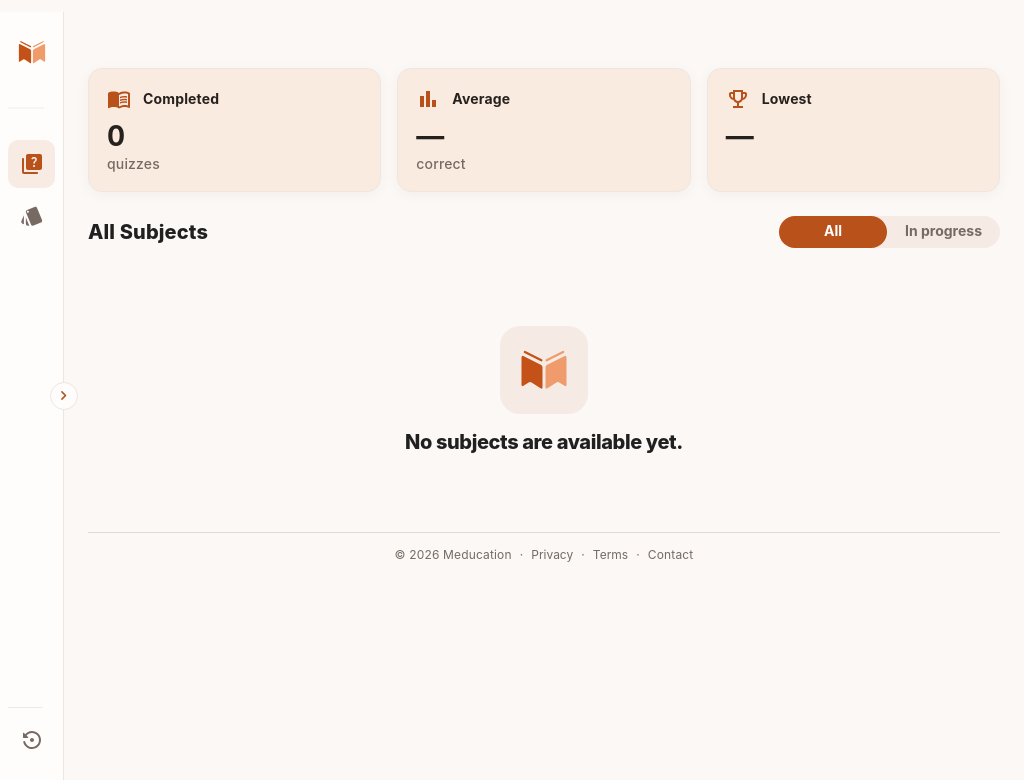
Test case: shows unreadable saved progress on the dashboard before a deck is opened
This screenshot has width=1024, height=780.
Click the button named "Flashcards" at (32, 216), box top-left (8, 192), bottom-right (55, 240)
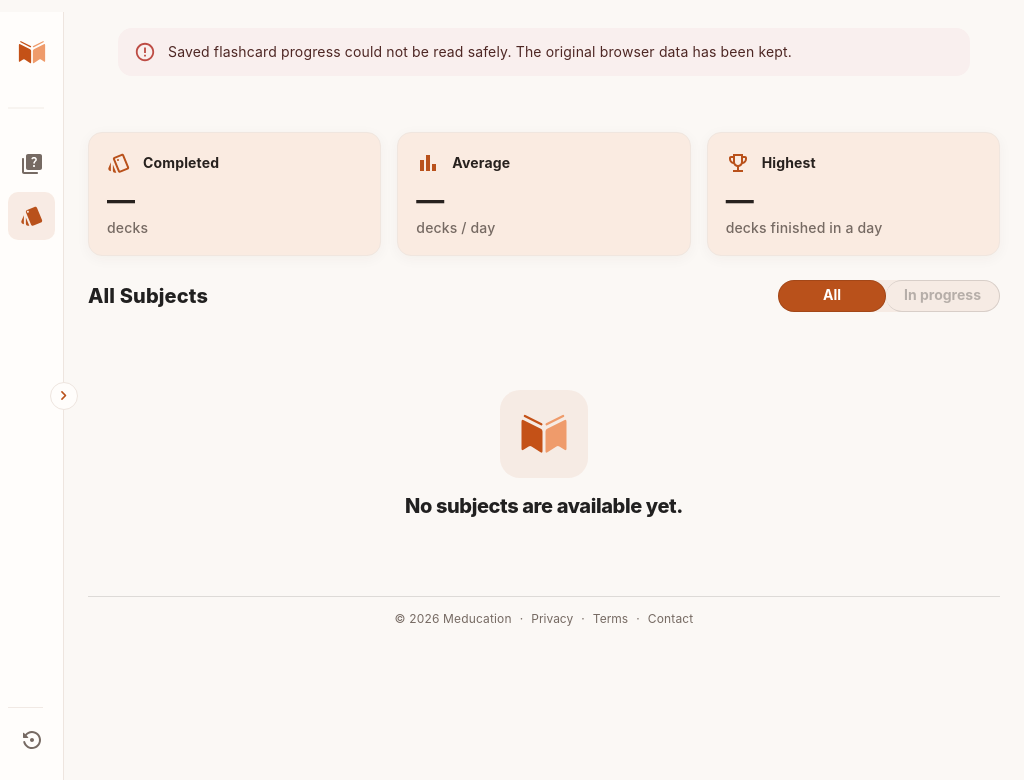
Check: the message shows "original browser data has been kept", box top-left (168, 43), bottom-right (792, 60)
